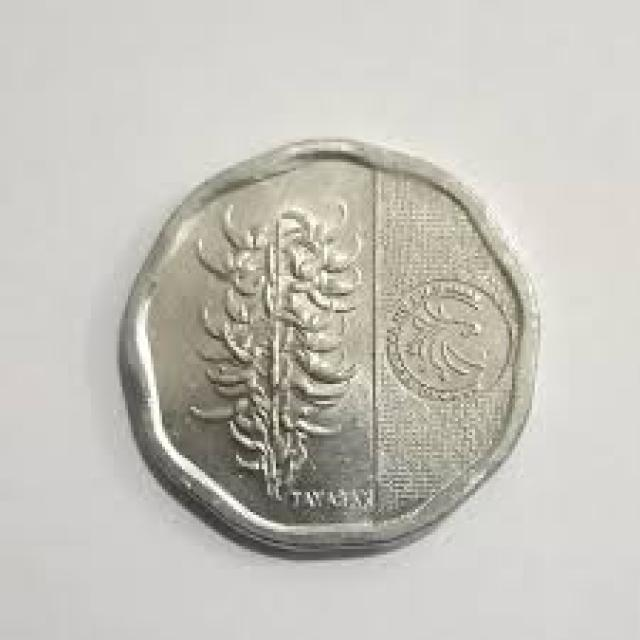5 peso: (115, 130, 546, 566)
